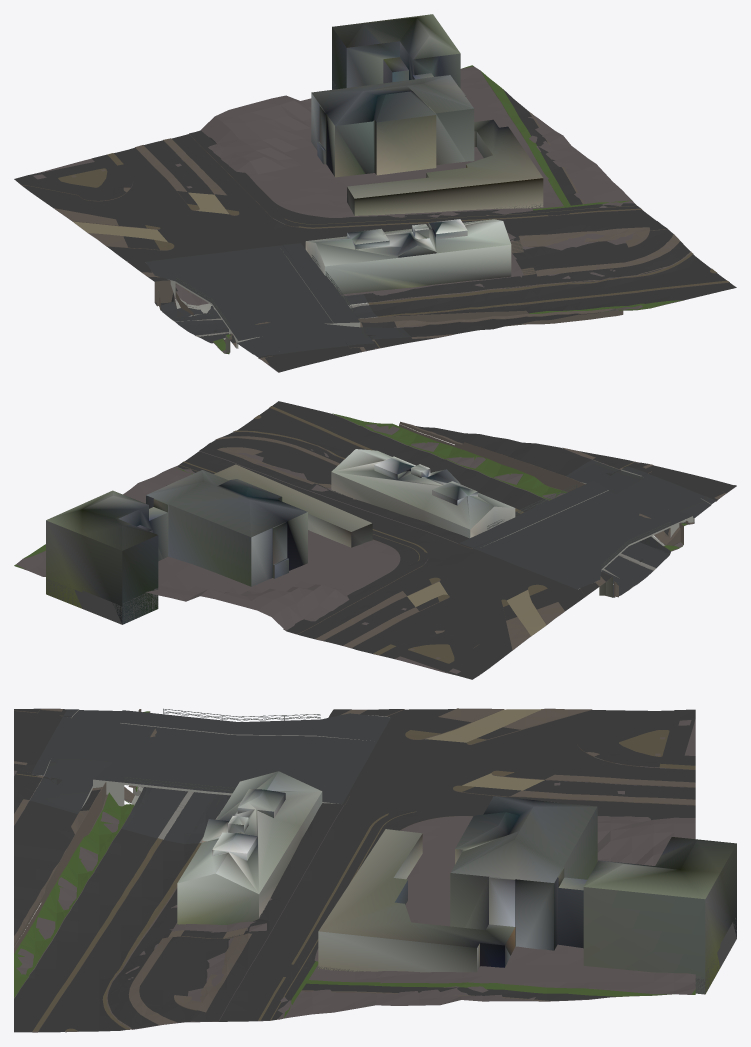
3 views of the same model, one above another, from view 1: azimuth 30°, elevation 25°; view 2: azimuth 150°, elevation 25°; view 3: azimuth 270°, elevation 25° (orthographic). The views are drawn at different scales.
Parts seen in each view (by area): view 1: c_p05_m18; view 2: c_p05_m18; view 3: c_p05_m18.
Boxes of the visible parts, x1,y1,x2,y2 form: c_p05_m18: [14, 14, 736, 372]; c_p05_m18: [14, 401, 736, 679]; c_p05_m18: [14, 708, 736, 1032].
Bounding box in the file's own units: 128 × 26.04 × 136.
